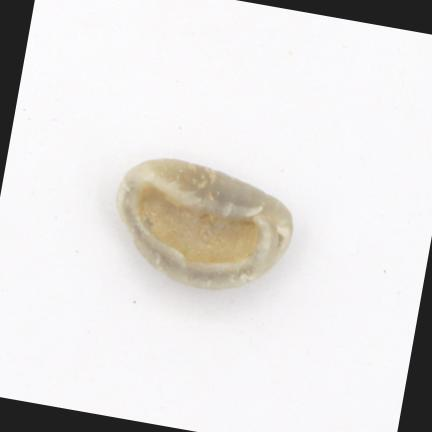shell: (117, 158, 291, 289)
